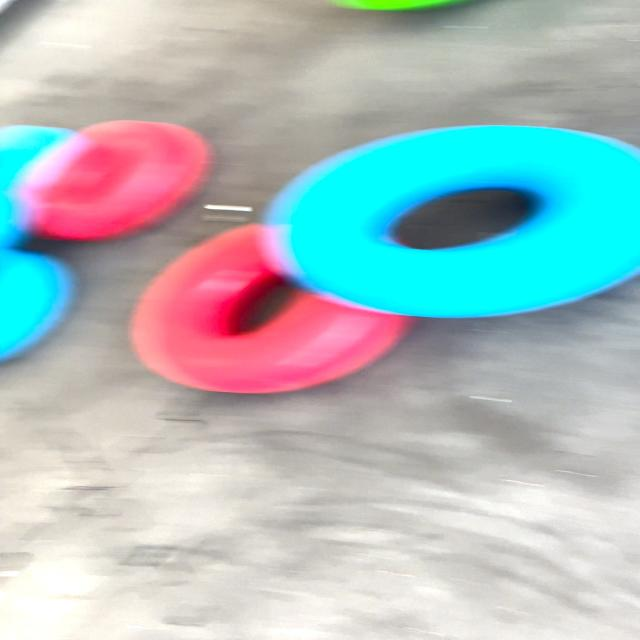Blue-Ring: (267, 126, 638, 318), (0, 244, 79, 367)
Red-Ring: (131, 224, 413, 393), (20, 120, 209, 240)
